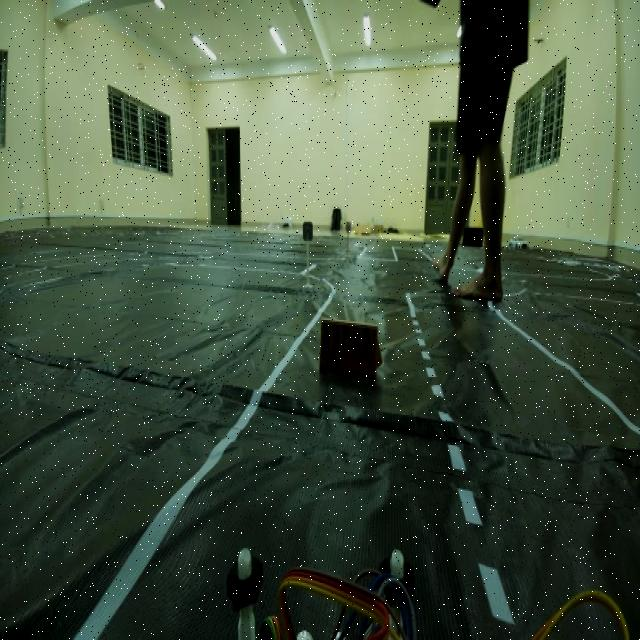roadblock: (314, 307, 397, 404)
